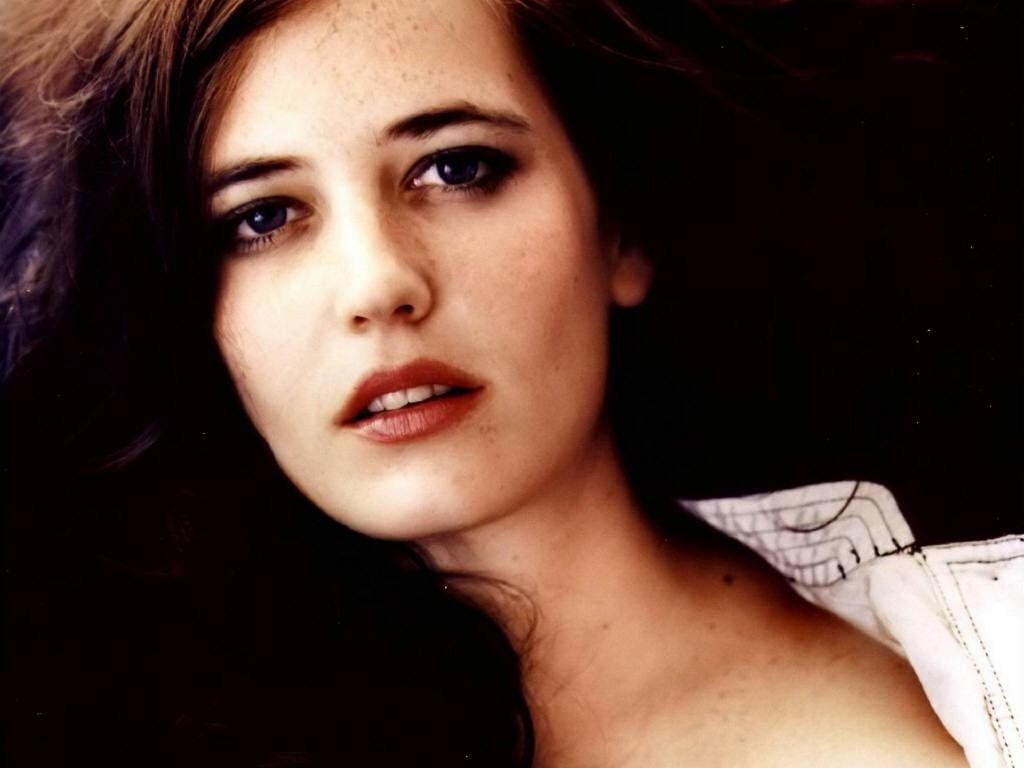face: (196, 0, 612, 532)
